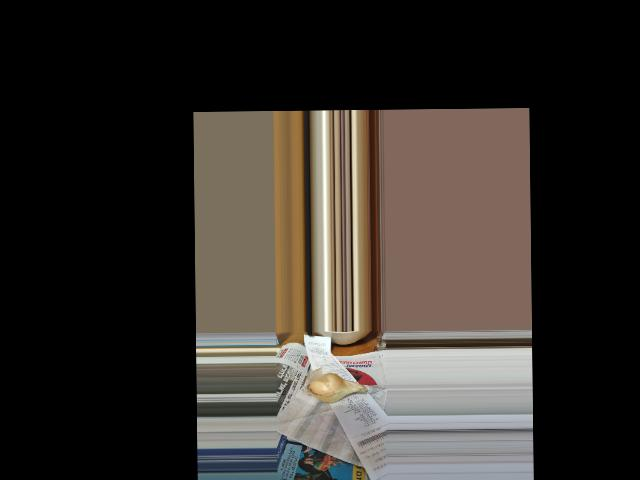onion: (308, 373, 363, 405)
